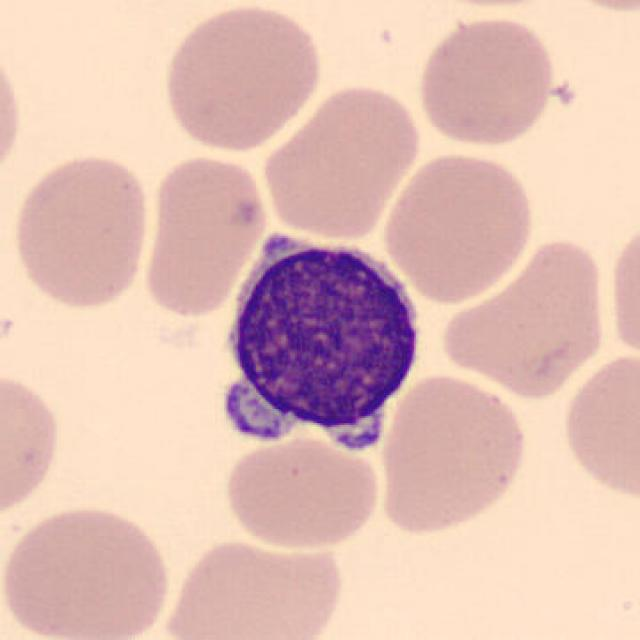Lymphocyte: (206, 224, 430, 465)
RBC: (438, 231, 614, 402), (256, 80, 425, 242), (374, 370, 532, 538), (157, 2, 327, 155), (377, 148, 539, 305), (0, 500, 174, 640), (7, 148, 155, 312), (139, 150, 272, 321), (412, 10, 560, 150), (219, 432, 384, 554), (158, 534, 347, 640), (558, 347, 640, 506), (0, 365, 66, 524), (604, 215, 640, 369), (0, 39, 27, 190), (544, 0, 638, 16)
